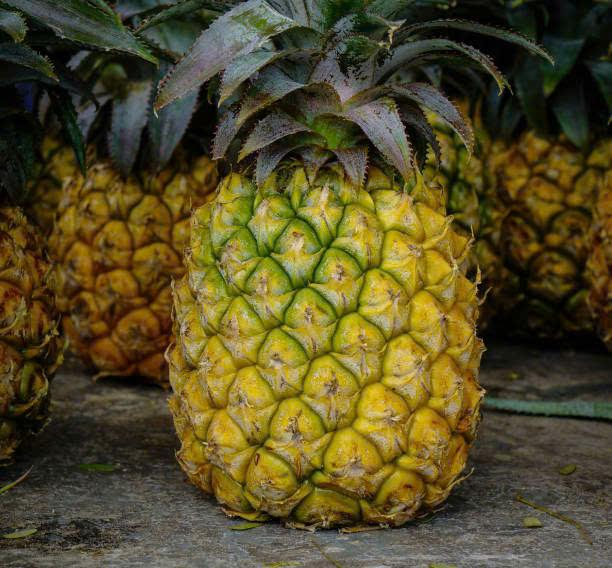pineapple: (161, 5, 491, 529), (41, 2, 176, 387), (483, 0, 612, 330)
